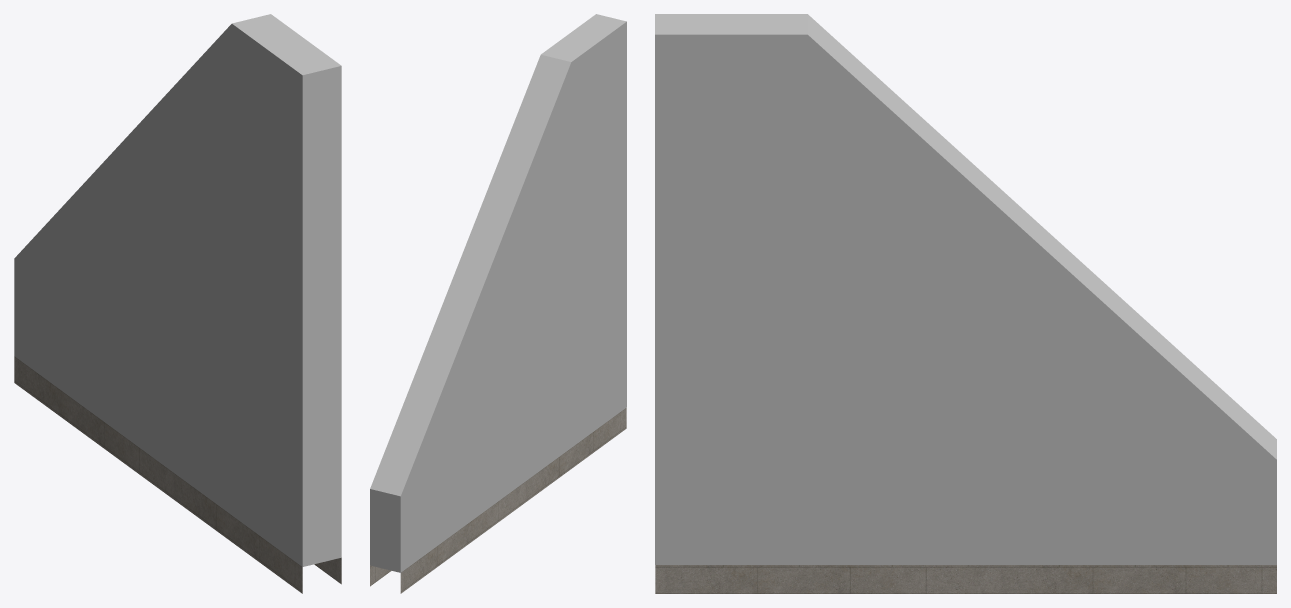
File: SM_GCM_Wall03A.fbx
3 views of the same model, side by side, from view 1: azimuth 30°, elevation 25°; view 2: azimuth 150°, elevation 25°; view 3: azimuth 270°, elevation 25° (orthographic). The views are drawn at different scales.
Visible parts, largest first — view 1: SM_GCM_Wall03A_ConvexHulls, SM_GCM_Wall03A; view 2: SM_GCM_Wall03A_ConvexHulls, SM_GCM_Wall03A; view 3: SM_GCM_Wall03A_ConvexHulls, SM_GCM_Wall03A.
Boxes of the visible parts, x1,y1,x2,y2 form: SM_GCM_Wall03A_ConvexHulls: (14,14,341,566); SM_GCM_Wall03A: (14,356,341,593); SM_GCM_Wall03A_ConvexHulls: (370,14,626,572); SM_GCM_Wall03A: (370,408,626,593); SM_GCM_Wall03A_ConvexHulls: (655,14,1276,564); SM_GCM_Wall03A: (655,565,1276,593).
Size of the model in its own units: 44.13 by 563 by 559.
Materials: 2 (1 with a texture image).
